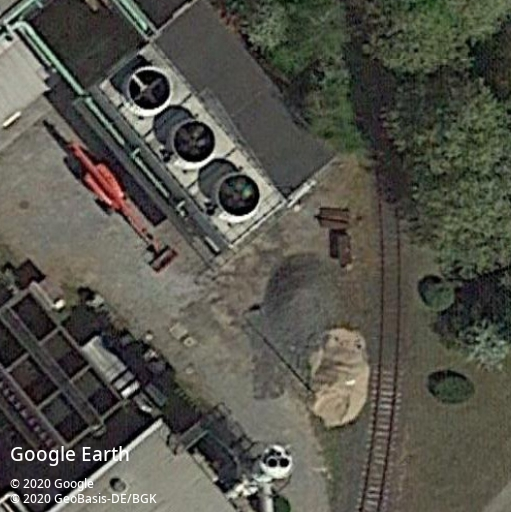Vent: (127, 66, 174, 113), (171, 118, 218, 165), (215, 172, 262, 218)
